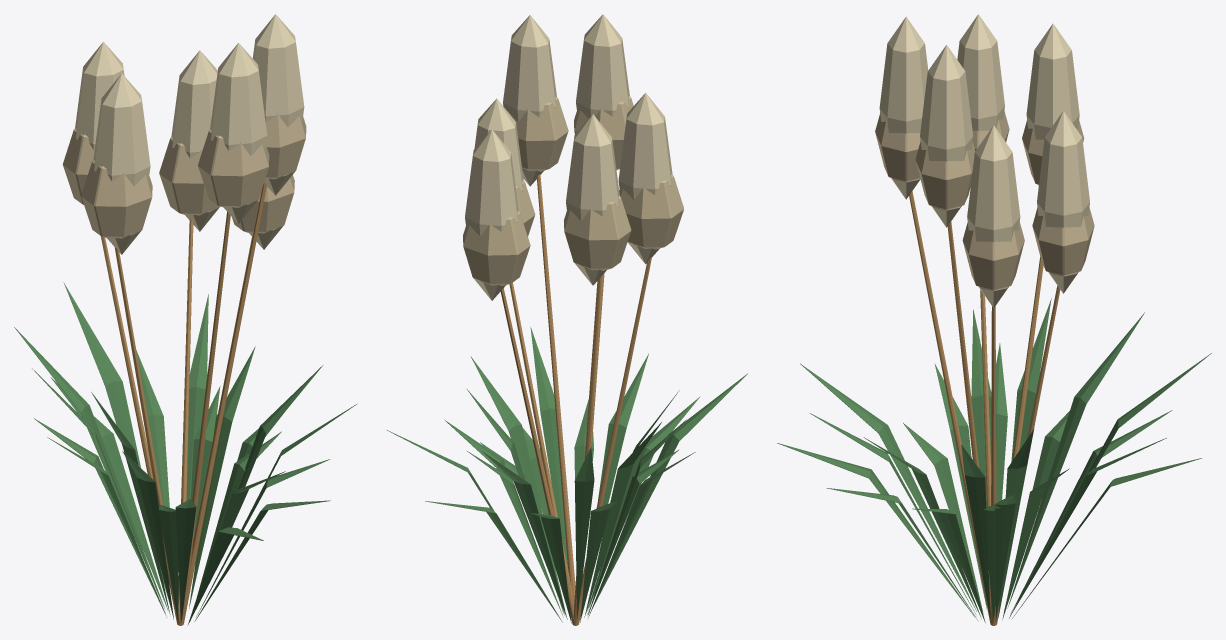
Rendered from b08_pampas_grass.glb.
3 renders of one model, left to right at view 1: azimuth 30°, elevation 25°; view 2: azimuth 150°, elevation 25°; view 3: azimuth 270°, elevation 25°, orthographic. The views are drawn at different scales.
Parts seen in each view (by area): view 1: b08_pampas_grass; view 2: b08_pampas_grass; view 3: b08_pampas_grass.
Part boxes in pixels (x1,y1,x2,y2): b08_pampas_grass: [14, 14, 357, 625]; b08_pampas_grass: [387, 14, 747, 625]; b08_pampas_grass: [777, 14, 1211, 625].
Size of the model in its own units: 1.13 by 2.55 by 1.63.
